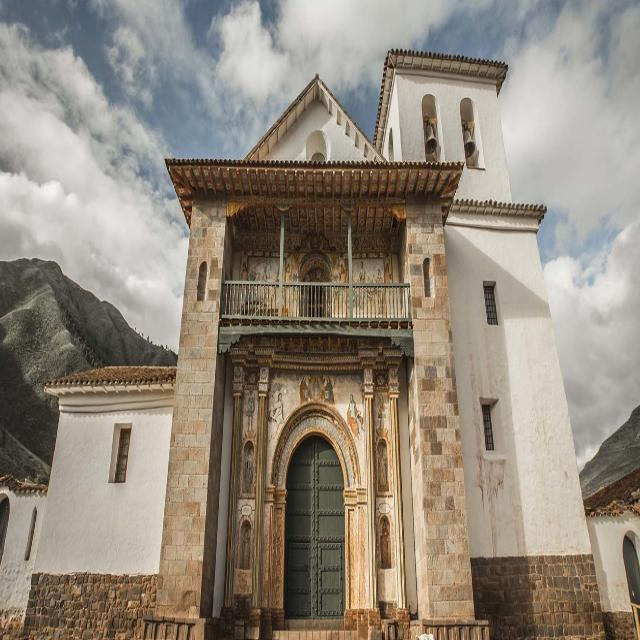6: (383, 40, 610, 640)
CAMPANARIO: (354, 40, 522, 194)
SIMETRIA COLONIAL: (248, 341, 376, 640)
